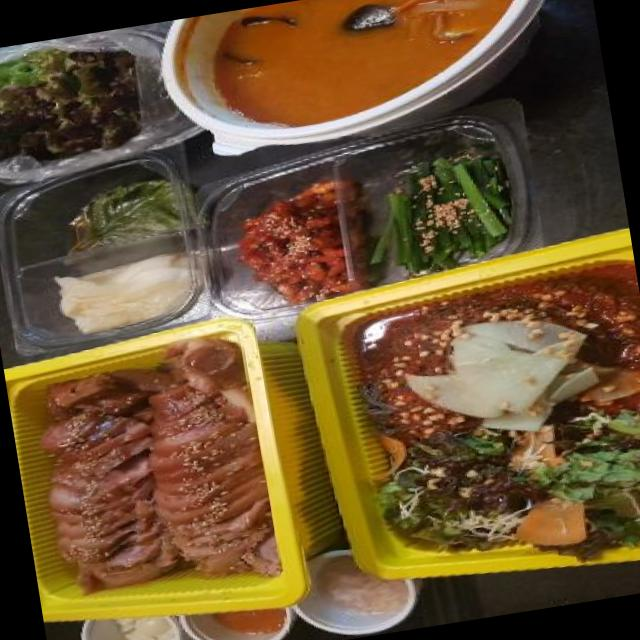plastic-bag: (0, 19, 195, 185)
plastic-bowl: (297, 227, 640, 583), (3, 312, 351, 621), (193, 88, 546, 324), (158, 0, 552, 159), (0, 129, 212, 363), (294, 546, 423, 638), (177, 606, 297, 640), (79, 614, 195, 640)
